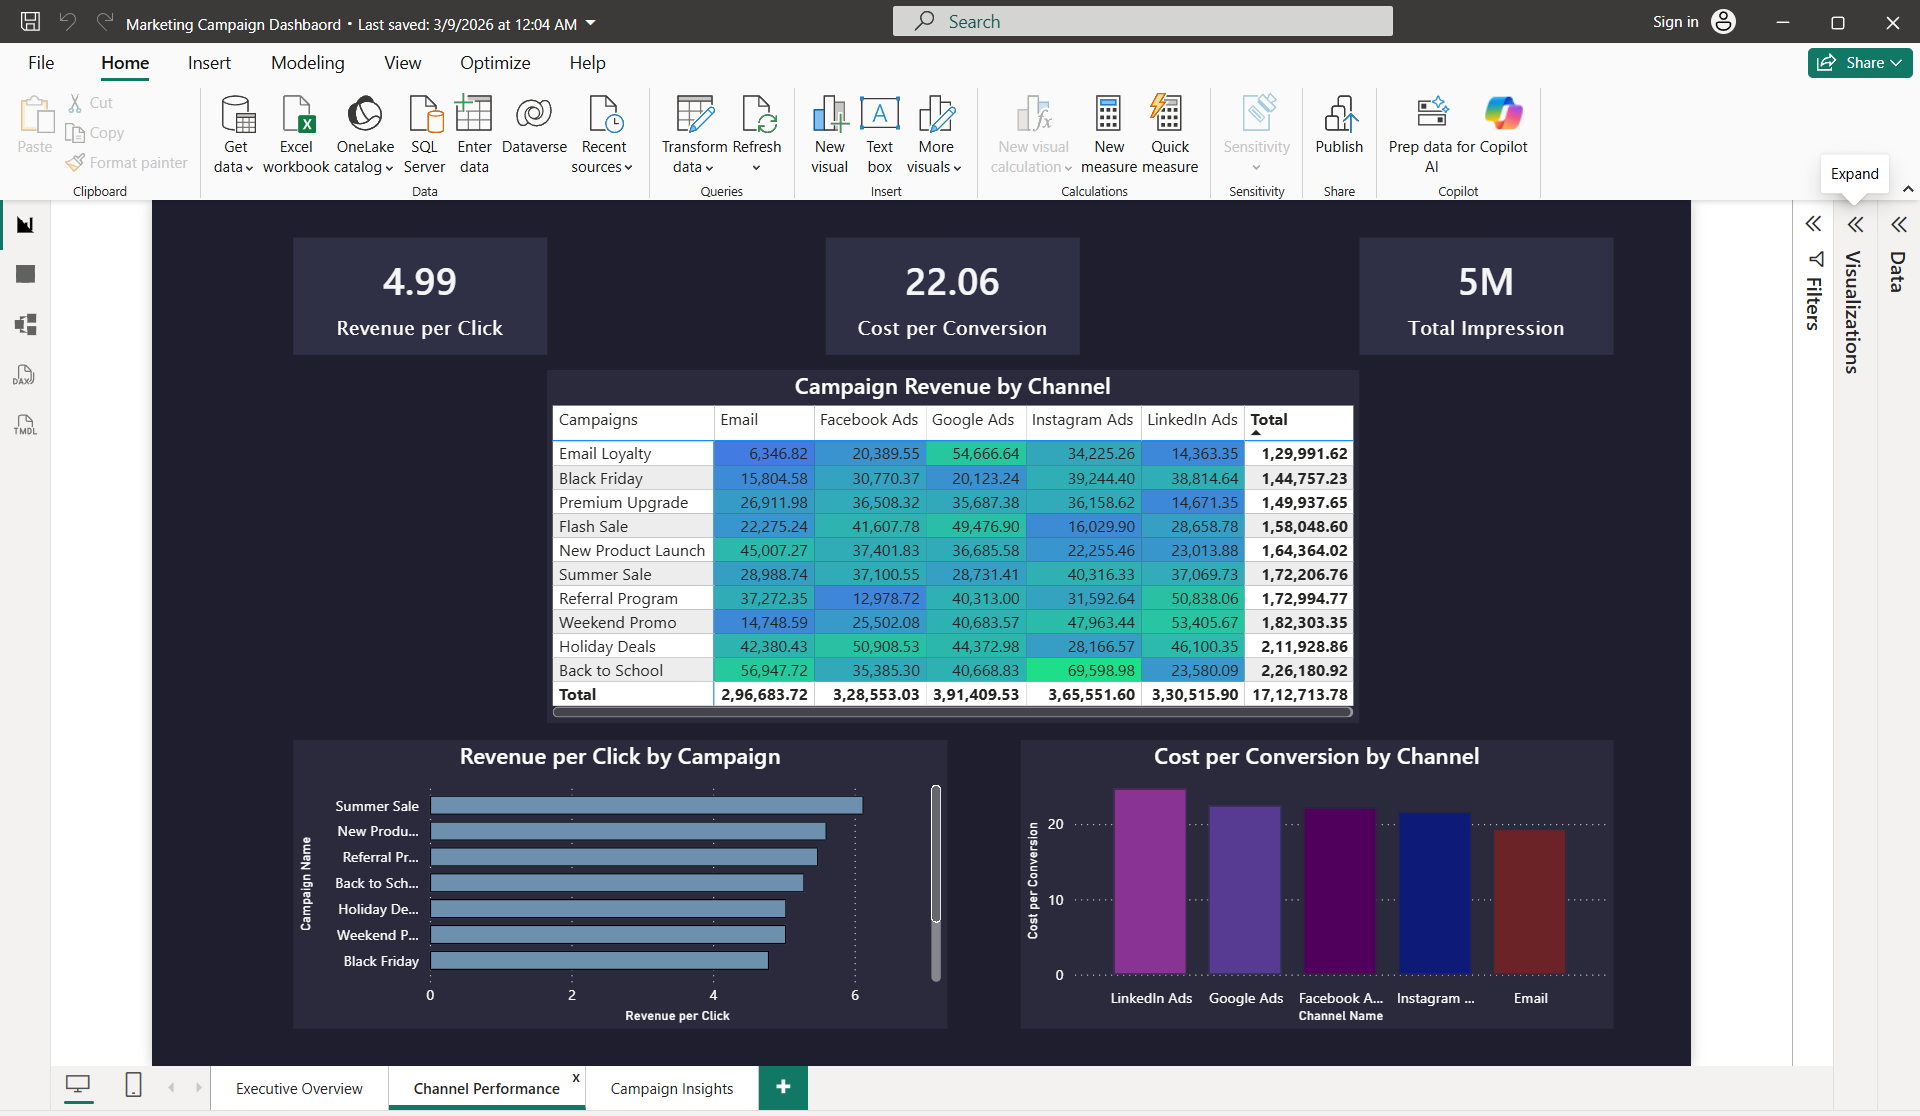

What the dashboard file says about the page in this screenshot:
{"tool":"powerbi","page":{"name":"Channel Performance","canvas":[1280,720],"ordinal":1},"visuals":[{"type":"pivotTable","title":"Campaign Revenue by Channel","fields":{"Values":["camp_performance.Total Revenue"],"Rows":["campaign.campaign_name"],"Columns":["channels.channel_name"]},"box":[328.8,141.2,675,293.8],"z":0},{"type":"clusteredBarChart","title":"Revenue per Click by Campaign","fields":{"Y":["camp_performance.Revenue per Click"],"Category":["campaign.campaign_name"]},"box":[117.5,448.8,543.8,240],"z":1000},{"type":"clusteredColumnChart","title":"Cost per Conversion by Channel","fields":{"Y":["camp_performance.Cost per Conversion"],"Category":["channels.channel_name"]},"box":[722.5,448.8,492.5,240],"z":2000},{"type":"card","fields":{"Values":["camp_performance.Revenue per Click"]},"box":[117.5,31.2,211.2,97.5],"z":2001},{"type":"card","fields":{"Values":["camp_performance.Cost per Conversion"]},"box":[560,31.2,211.2,97.5],"z":2002},{"type":"card","fields":{"Values":["camp_performance.Total Impression"]},"box":[1003.8,31.2,211.2,97.5],"z":2003}]}

Visuals, with their boxes on the page's 1280x720 design canvas (x1, y1, x2, y2). These are canvas units, not pixel positions in the 1920x1116 screenshot, which may show the page scaled, cropped or inside an application window:
"Campaign Revenue by Channel" pivotTable: Rect(329, 141, 1004, 435)
"Revenue per Click by Campaign" clusteredBarChart: Rect(118, 449, 661, 689)
"Cost per Conversion by Channel" clusteredColumnChart: Rect(722, 449, 1215, 689)
card - camp_performance.Revenue per Click: Rect(118, 31, 329, 129)
card - camp_performance.Cost per Conversion: Rect(560, 31, 771, 129)
card - camp_performance.Total Impression: Rect(1004, 31, 1215, 129)
